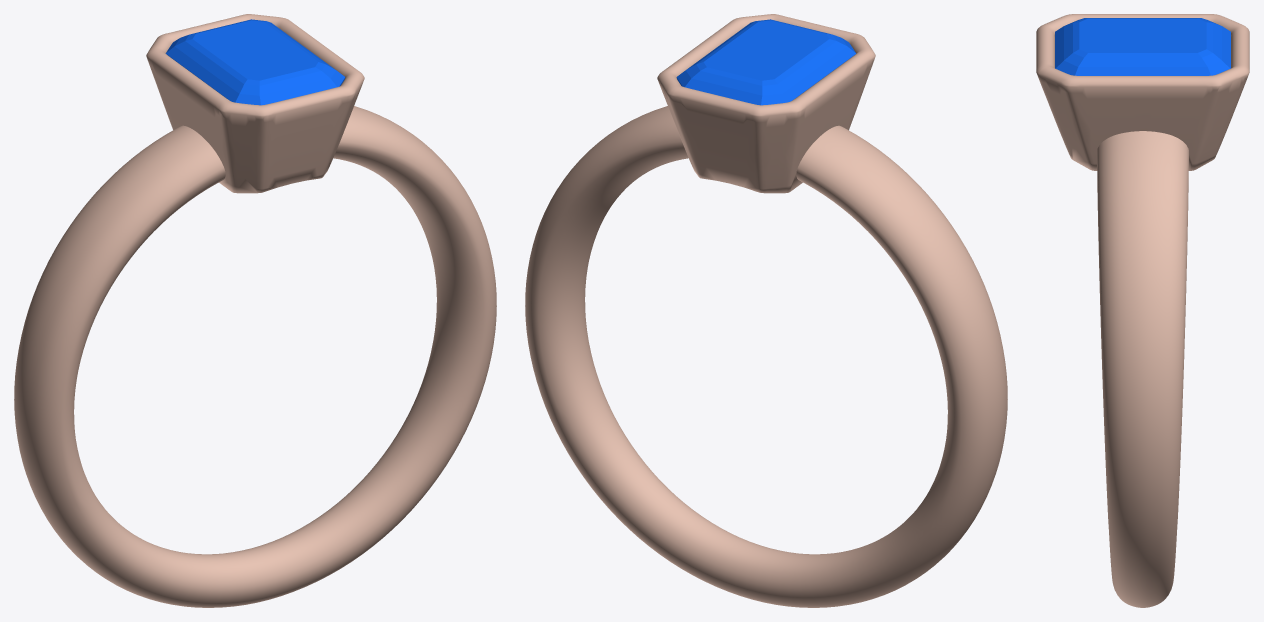
Rendered from bluesapphire-emerald-rosegold-bezelset-taperedband-solitaire.glb.
3 views of the same model, side by side, from view 1: azimuth 30°, elevation 25°; view 2: azimuth 150°, elevation 25°; view 3: azimuth 270°, elevation 25° (orthographic).
Visible parts, largest first — view 1: metal.001, stone; view 2: metal.001, stone; view 3: metal.001, stone.
Part boxes in pixels (x1,y1,x2,y2): metal.001: [14, 14, 496, 607]; stone: [165, 19, 345, 105]; metal.001: [525, 14, 1007, 607]; stone: [676, 19, 856, 105]; metal.001: [1036, 14, 1249, 607]; stone: [1055, 18, 1230, 75].
Bounding box in the file's own units: 20.5 × 22.94 × 8.11.
